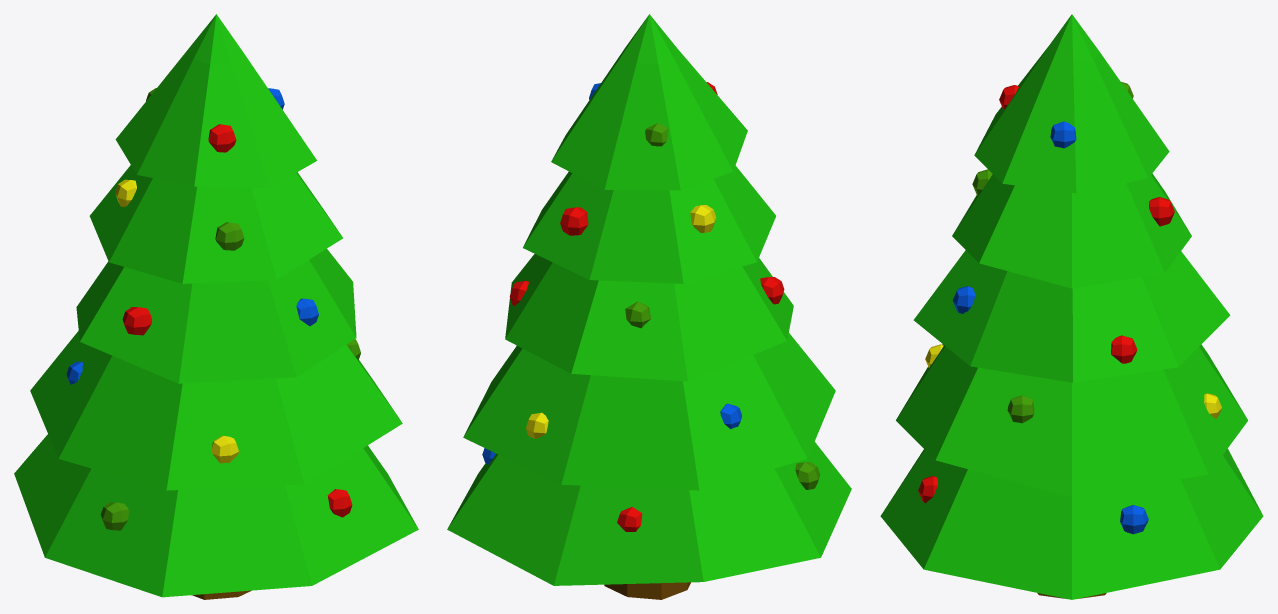
File: Tree.fbx
3 renders of one model, left to right at view 1: azimuth 30°, elevation 25°; view 2: azimuth 150°, elevation 25°; view 3: azimuth 270°, elevation 25°, orthographic.
Visible parts, largest first — view 1: Tree_leaves, Tree_leaves.001, Tree_leaves.002, Tree_leaves.003, Tree_leaves.004, Tree_ornament.013, Tree_ornament.004, Tree_ornament.016, Tree_ornament.018, Tree_ornament.010, Tree_ornament.017; view 2: Tree_leaves.001, Tree_leaves, Tree_leaves.002, Tree_leaves.004, Tree_leaves.003, Tree_ornament, Tree_ornament.006, Tree_ornament.005, Tree_ornament.016; view 3: Tree_leaves, Tree_leaves.001, Tree_leaves.002, Tree_leaves.004, Tree_leaves.003, Tree_ornament.014, Tree_ornament.011, Tree_ornament.002, Tree_ornament.006, Tree_ornament.007.
Part boxes in pixels (<box>): Tree_leaves: <box>14,434,418,597</box>; Tree_leaves.001: <box>30,331,402,490</box>; Tree_leaves.002: <box>76,248,356,383</box>; Tree_leaves.003: <box>89,165,342,283</box>; Tree_leaves.004: <box>115,14,317,187</box>; Tree_ornament.013: <box>122,307,152,335</box>; Tree_ornament.004: <box>215,222,244,250</box>; Tree_ornament.016: <box>100,502,129,530</box>; Tree_ornament.018: <box>208,124,236,152</box>; Tree_ornament.010: <box>211,435,238,463</box>; Tree_ornament.017: <box>327,489,352,517</box>; Tree_leaves.001: <box>463,333,835,490</box>; Tree_leaves: <box>447,442,851,585</box>; Tree_leaves.002: <box>505,254,793,381</box>; Tree_leaves.004: <box>551,14,747,190</box>; Tree_leaves.003: <box>523,165,775,283</box>; Tree_ornament: <box>604,582,690,599</box>; Tree_ornament.006: <box>560,207,588,235</box>; Tree_ornament.005: <box>690,205,716,232</box>; Tree_ornament.016: <box>795,462,820,489</box>; Tree_leaves: <box>880,448,1263,599</box>; Tree_leaves.001: <box>896,344,1247,497</box>; Tree_leaves.002: <box>913,250,1230,382</box>; Tree_leaves.004: <box>974,14,1169,193</box>; Tree_leaves.003: <box>952,173,1191,288</box>; Tree_ornament.014: <box>1120,505,1148,534</box>; Tree_ornament.011: <box>1007,395,1034,423</box>; Tree_ornament.002: <box>1111,335,1137,363</box>; Tree_ornament.006: <box>1149,197,1174,226</box>; Tree_ornament.007: <box>1050,121,1076,148</box>.
Bounding box in the file's own units: 96.97 × 153 × 93.7.
